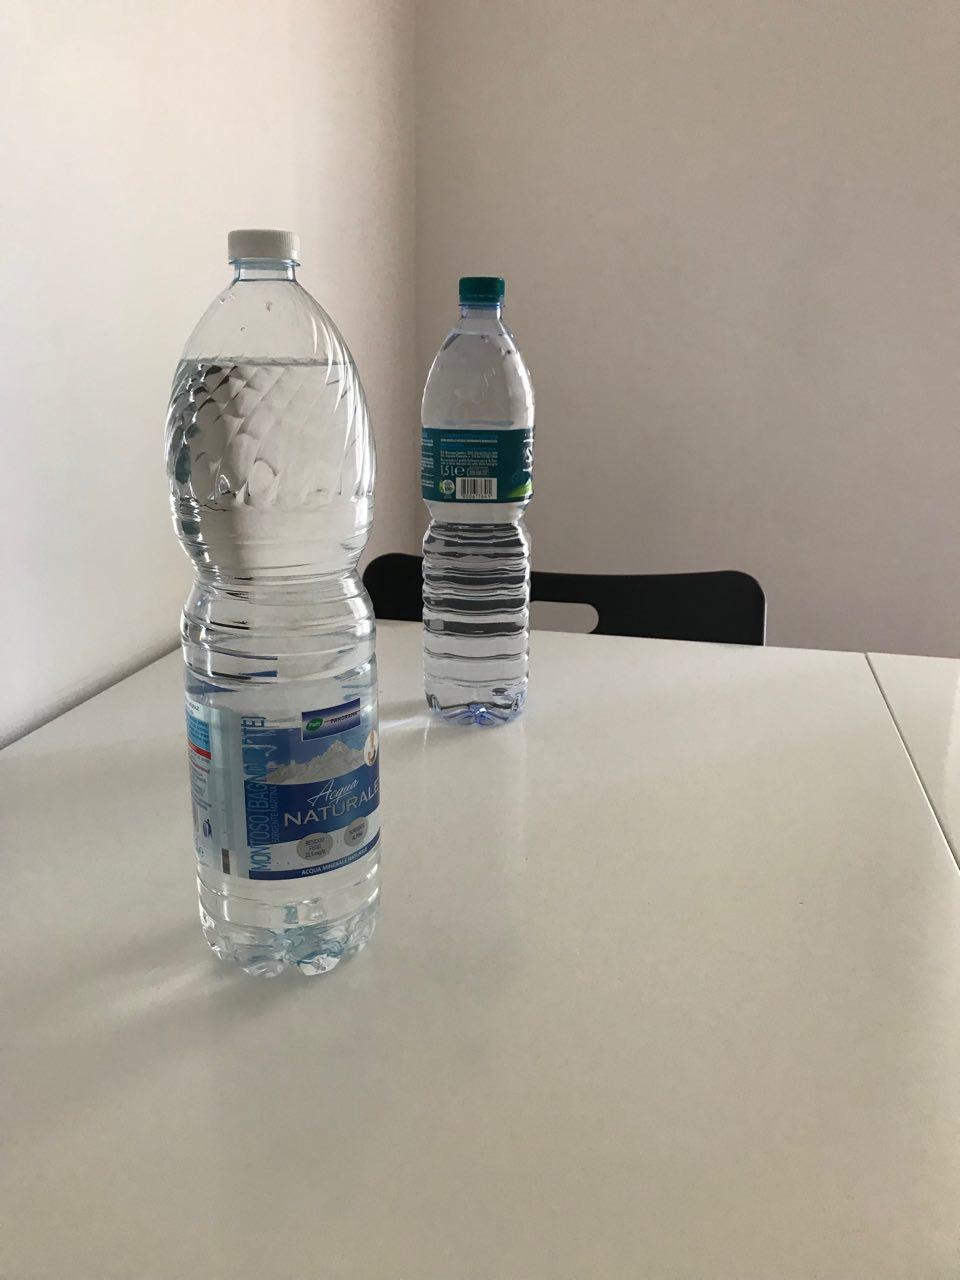san_bernardo: (419, 275, 535, 728)
